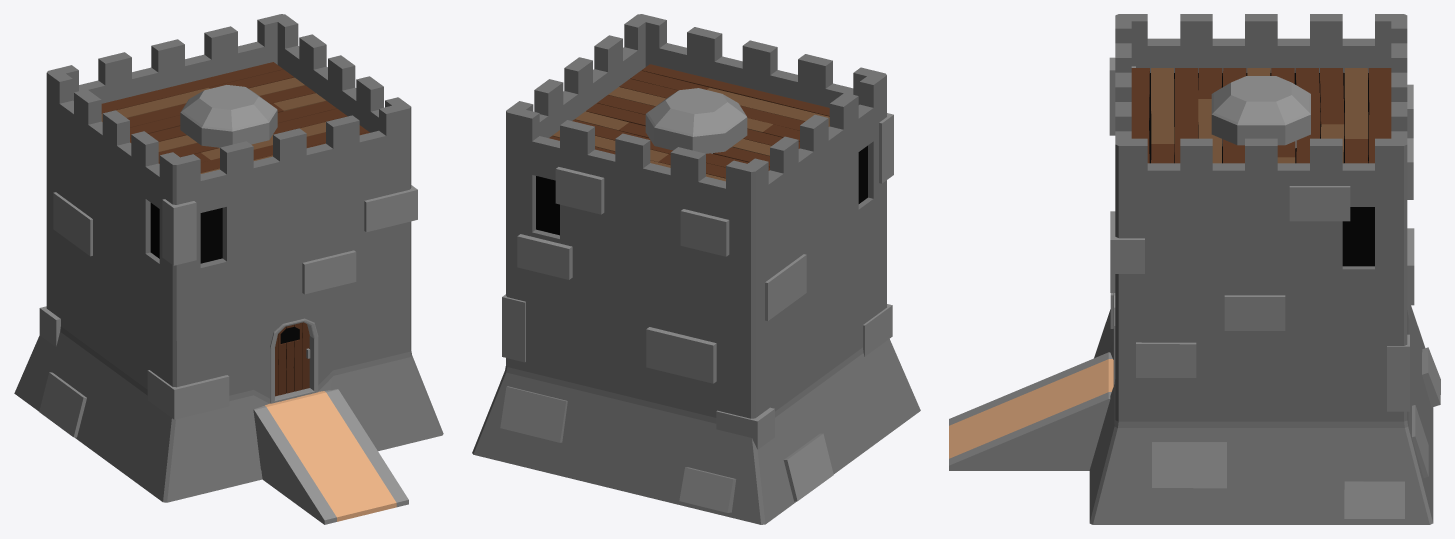
The model's file is Castel#1.fbx.
3 views of the same model, side by side, from view 1: azimuth 30°, elevation 25°; view 2: azimuth 150°, elevation 25°; view 3: azimuth 270°, elevation 25° (orthographic). The views are drawn at different scales.
Parts seen in each view (by area): view 1: Castel#1; view 2: Castel#1; view 3: Castel#1.
Boxes of the visible parts, bbox=[...] form: Castel#1: bbox=[14, 14, 443, 524]; Castel#1: bbox=[472, 14, 920, 524]; Castel#1: bbox=[949, 14, 1440, 524].
Bounding box in the file's own units: 2450 × 2649 × 3204.
